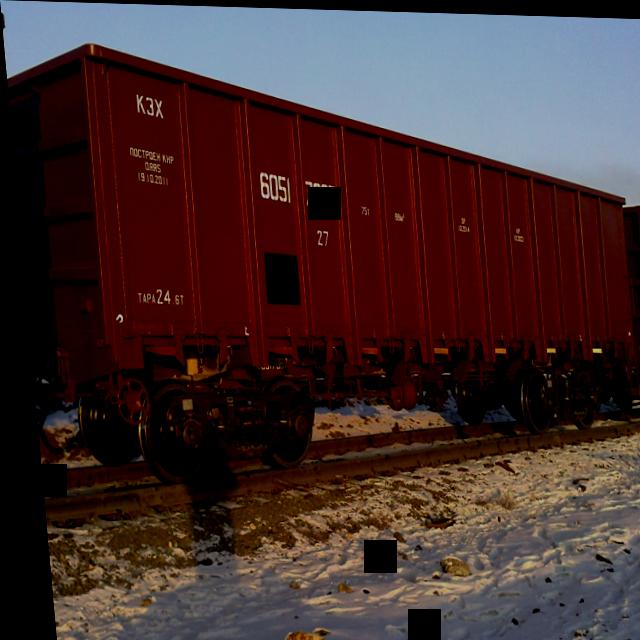gondola: (6, 37, 640, 497), (622, 196, 640, 414)
